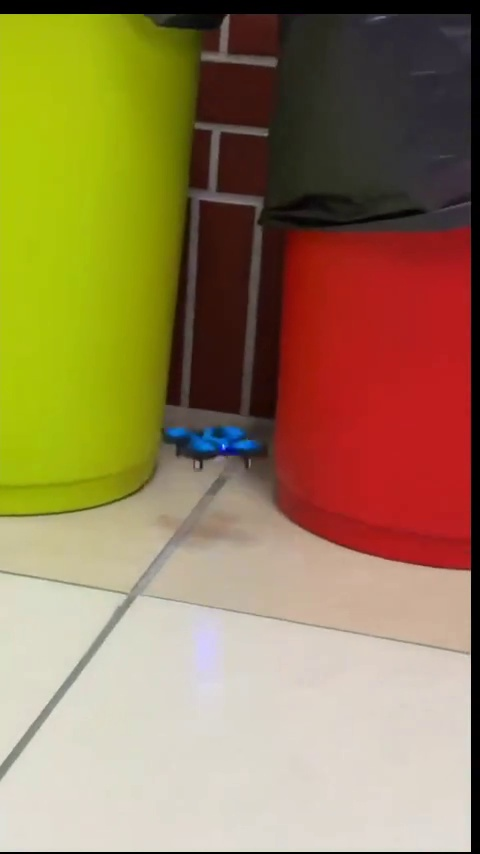drone: (166, 423, 260, 464)
